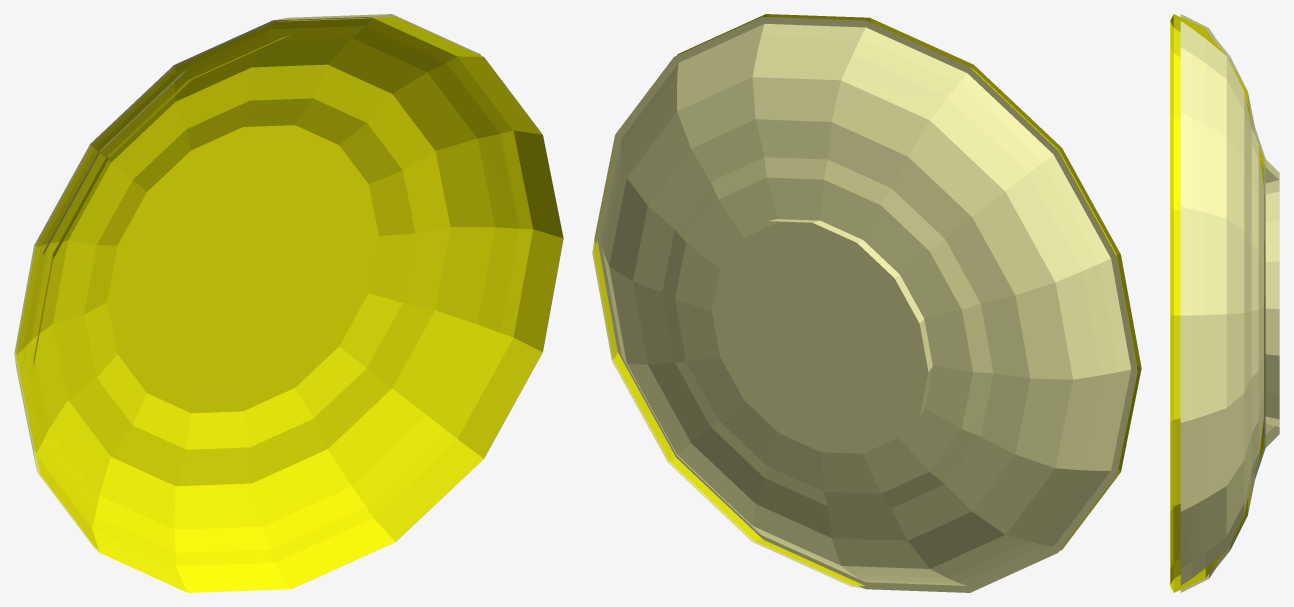
File: _coffee-cup-saucer-bodyset2.glb
3 renders of one model, left to right at view 1: azimuth 30°, elevation 25°; view 2: azimuth 150°, elevation 25°; view 3: azimuth 270°, elevation 25°, orthographic. The views are drawn at different scales.
Bounding box in the file's own units: 0.164 × 0.164 × 0.031.
